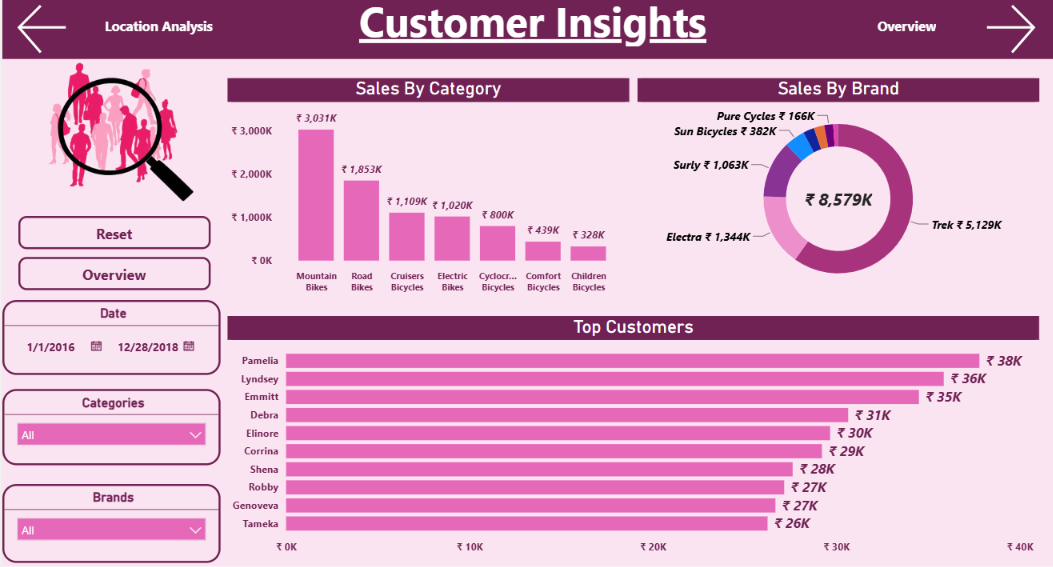

The page's visual inventory and layout, read from the dashboard file:
{"tool":"powerbi","page":{"name":"Customer Insights","canvas":[1280,720],"ordinal":3},"visuals":[{"type":"clusteredBarChart","title":"Top Customers","fields":{"Category":["retail customers.first_name"],"Y":["Sum(retail order_items.total_price)"]},"box":[271.5,391.3,979.5,297.1],"z":0},{"type":"donutChart","title":"Sales By Brand","fields":{"Category":["retail brands.brand_name"],"Y":["Sum(retail order_items.total_price)"]},"box":[765.5,103.9,485,267.5],"z":1000},{"type":"clusteredColumnChart","title":"Sales By Category","fields":{"Category":["retail categories.category"],"Y":["Sum(retail order_items.total_price)"]},"box":[271.2,103.8,485,267.5],"z":2000},{"type":"slicer","title":"Date","fields":{"Values":["retail orders.order_date"]},"box":[0,371.7,262.9,90.5],"z":3000},{"type":"shape","box":[0,0,1279.8,80.9],"z":4000},{"type":"actionButton","box":[902.6,0,377.2,80.9],"z":5000},{"type":"actionButton","box":[0,0,377.2,80.9],"z":6000},{"type":"image","box":[0,81.2,288.8,176.2],"z":7000},{"type":"slicer","title":"Categories","fields":{"Values":["retail categories.category"]},"box":[0,479.4,262.9,91.7],"z":8000},{"type":"slicer","title":"Brands","fields":{"Values":["retail brands.brand_name"]},"box":[0,593.1,262.9,95.4],"z":9000},{"type":"actionButton","box":[1167.5,8.8,96.2,72.5],"z":10000},{"type":"actionButton","box":[0,8.8,96.2,72.5],"z":11000},{"type":"actionButton","box":[19.5,269.9,232.3,40.3],"z":12000},{"type":"actionButton","box":[19.6,319.2,232.3,40.3],"z":13000}]}

Visuals, with their boxes on the page's 1280x720 design canvas (x1, y1, x2, y2). These are canvas units, not pixel positions in the 1053x567 screenshot, which may show the page scaled, cropped or inside an application window:
"Top Customers" clusteredBarChart: left=272, top=391, right=1251, bottom=688
"Sales By Brand" donutChart: left=766, top=104, right=1250, bottom=371
"Sales By Category" clusteredColumnChart: left=271, top=104, right=756, bottom=371
"Date" slicer: left=0, top=372, right=263, bottom=462
shape: left=0, top=0, right=1280, bottom=81
actionButton: left=903, top=0, right=1280, bottom=81
actionButton: left=0, top=0, right=377, bottom=81
image: left=0, top=81, right=289, bottom=257
"Categories" slicer: left=0, top=479, right=263, bottom=571
"Brands" slicer: left=0, top=593, right=263, bottom=688
actionButton: left=1168, top=9, right=1264, bottom=81
actionButton: left=0, top=9, right=96, bottom=81
actionButton: left=20, top=270, right=252, bottom=310
actionButton: left=20, top=319, right=252, bottom=360
